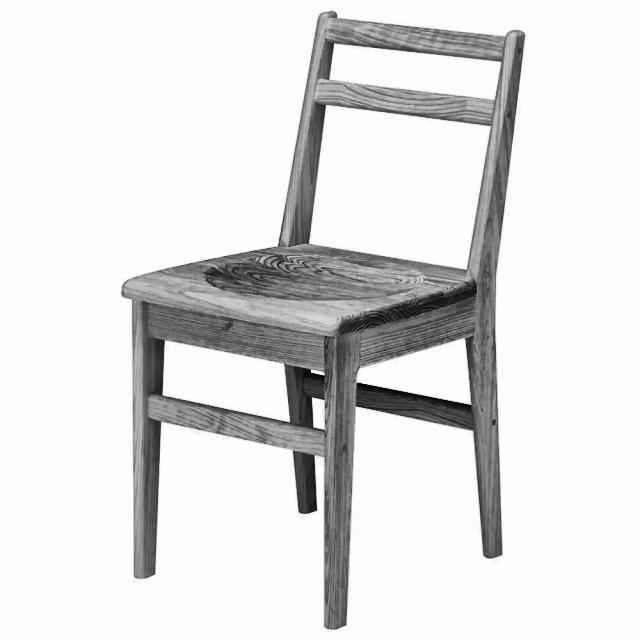cadeira: (115, 6, 538, 634)
